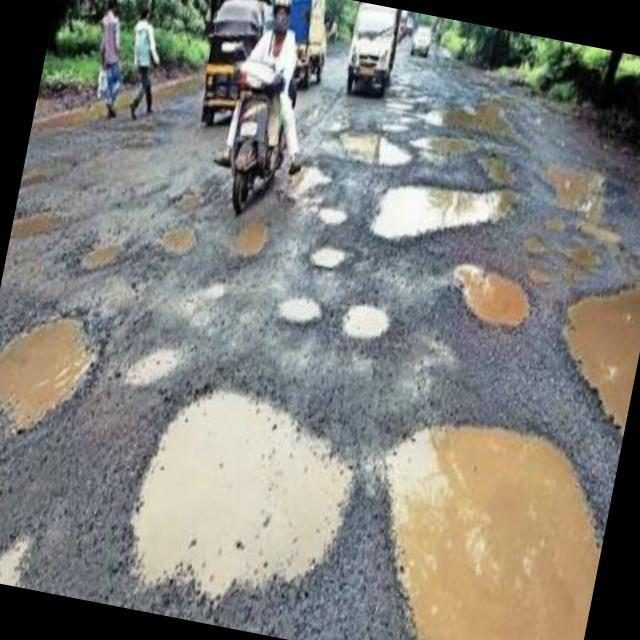Pothole: (104, 346, 383, 636), (341, 389, 623, 640), (537, 251, 640, 439), (0, 284, 113, 454), (359, 158, 526, 268), (411, 61, 544, 152), (441, 246, 544, 348), (531, 143, 637, 226), (399, 112, 498, 170), (331, 113, 418, 174), (122, 324, 186, 402), (221, 209, 285, 270), (471, 138, 534, 198), (271, 279, 329, 343), (286, 146, 340, 214), (338, 292, 398, 348), (73, 226, 130, 280), (302, 230, 357, 284), (11, 199, 68, 249), (154, 211, 204, 264), (308, 192, 354, 234), (169, 181, 211, 220), (520, 262, 556, 294), (522, 224, 552, 262)
